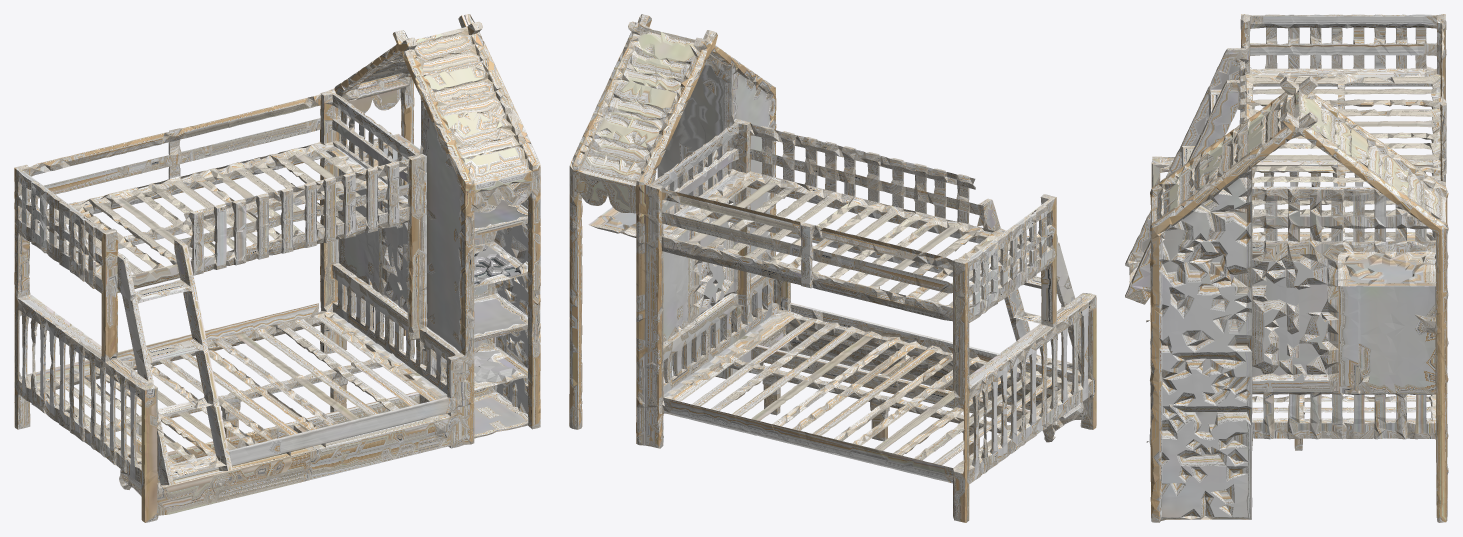
The model's file is bed_bunk.glb.
3 views of the same model, side by side, from view 1: azimuth 30°, elevation 25°; view 2: azimuth 150°, elevation 25°; view 3: azimuth 270°, elevation 25° (orthographic). The views are drawn at different scales.
Parts seen in each view (by area): view 1: tripo_node_619b3a0a-8c39-44c8-8be4-15c652c8c1fe; view 2: tripo_node_619b3a0a-8c39-44c8-8be4-15c652c8c1fe; view 3: tripo_node_619b3a0a-8c39-44c8-8be4-15c652c8c1fe.
Part boxes in pixels (bbox=[...]): tripo_node_619b3a0a-8c39-44c8-8be4-15c652c8c1fe: bbox=[14, 14, 540, 522]; tripo_node_619b3a0a-8c39-44c8-8be4-15c652c8c1fe: bbox=[569, 14, 1096, 522]; tripo_node_619b3a0a-8c39-44c8-8be4-15c652c8c1fe: bbox=[1125, 14, 1448, 522].
Size of the model in its own units: 0.9749 by 0.8463 by 0.61.
Materials: 1 (1 with a texture image).
